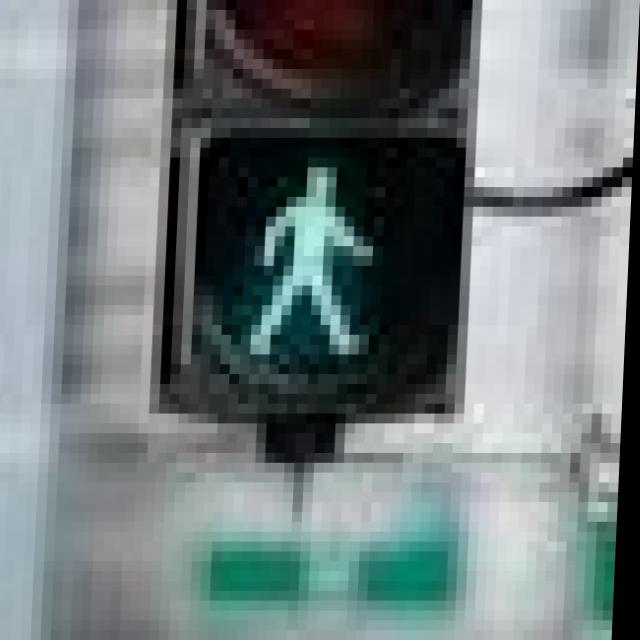green_light: (233, 138, 419, 374)
